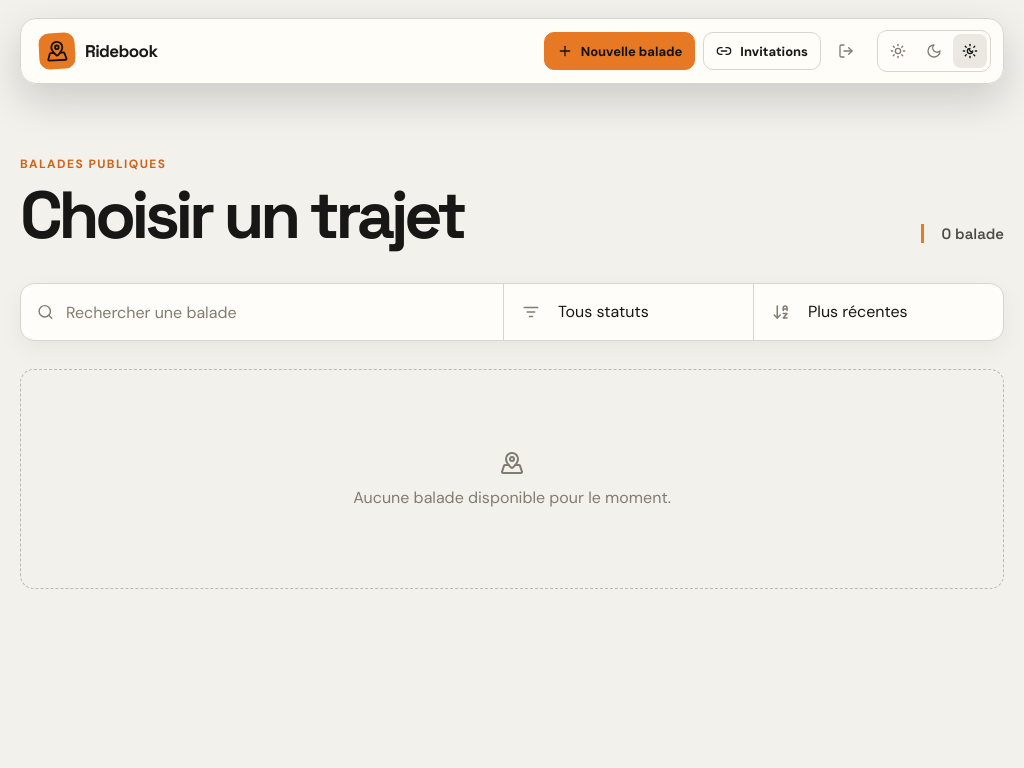
it: App › should let admins send and copy invitation links
The width and height of the screenshot is (1024, 768).
Click the button "Invitations" at (762, 51), box x1=703 y1=32 x2=821 y2=70
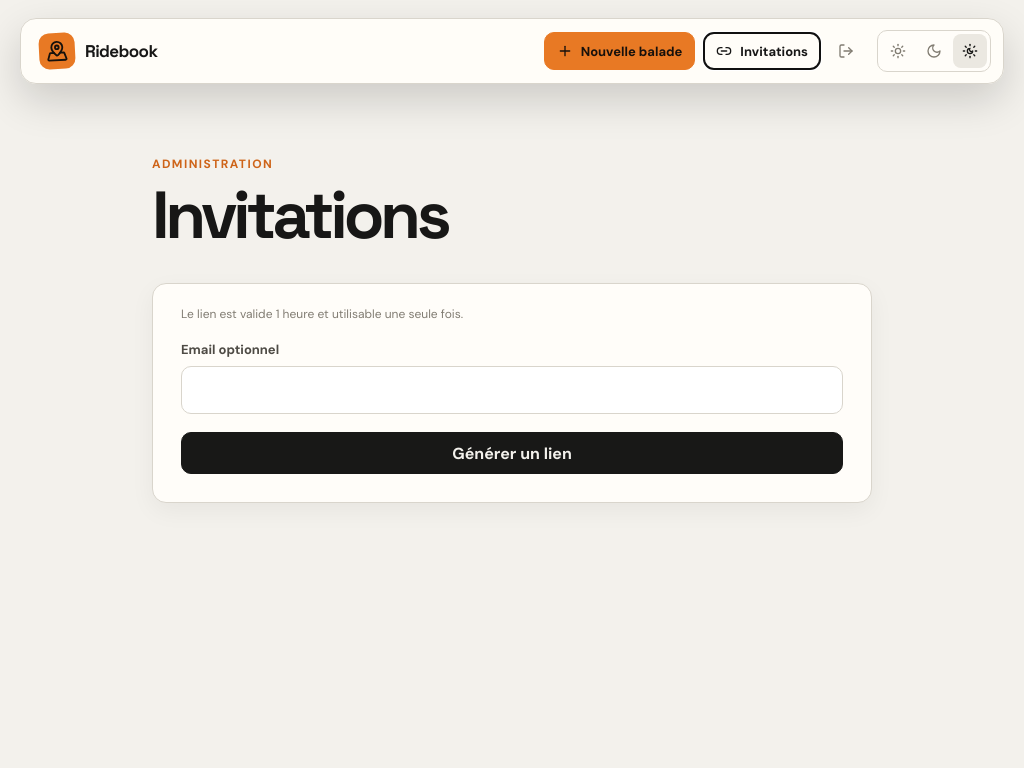
Type "user@example.com" into the field labelled "Email optionnel" at (512, 390), box x1=181 y1=366 x2=843 y2=414
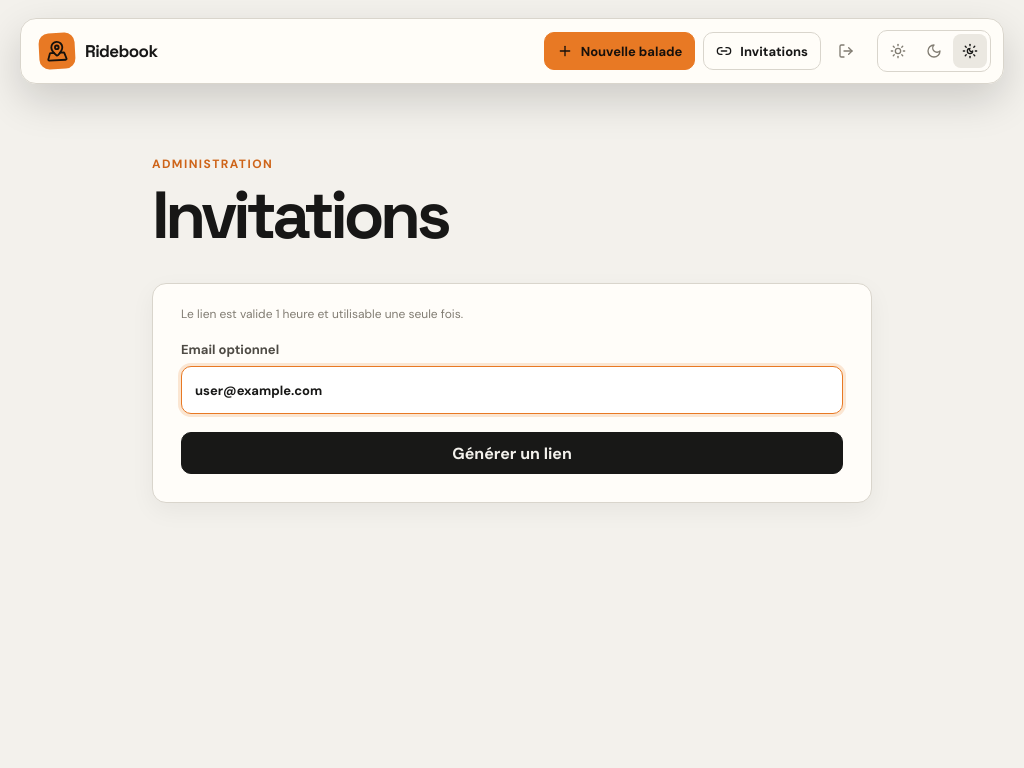
Click the button "Générer un lien" at (512, 453), box x1=181 y1=432 x2=843 y2=474
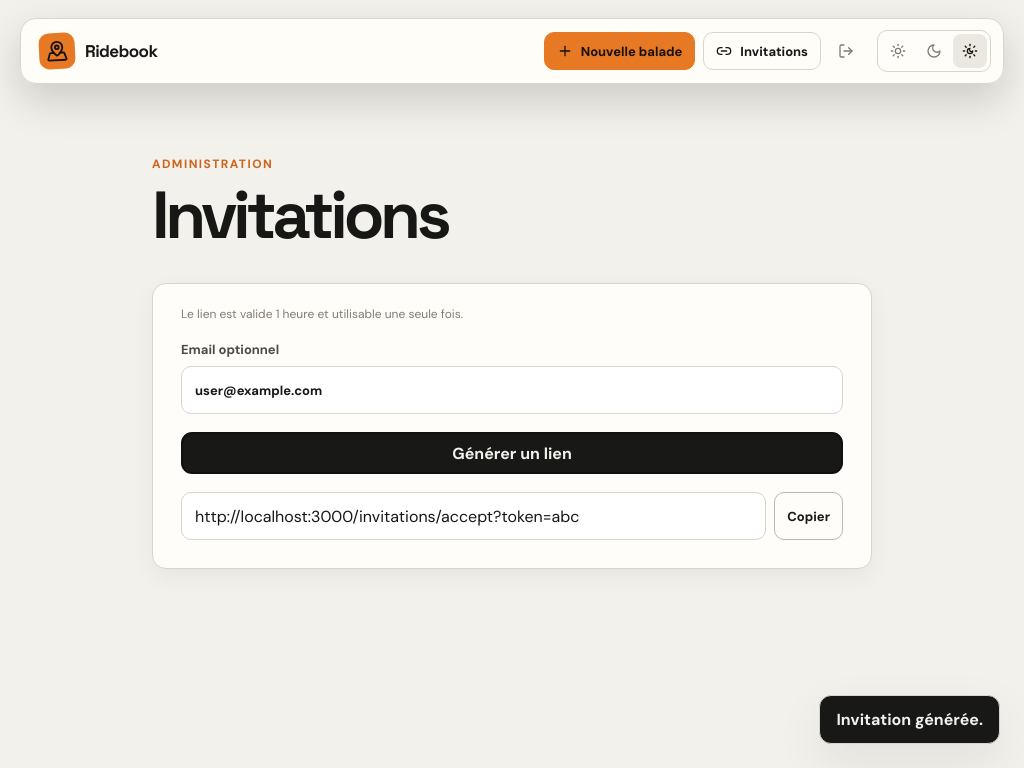
Click the button "Copier" at (809, 516), box x1=774 y1=492 x2=843 y2=540
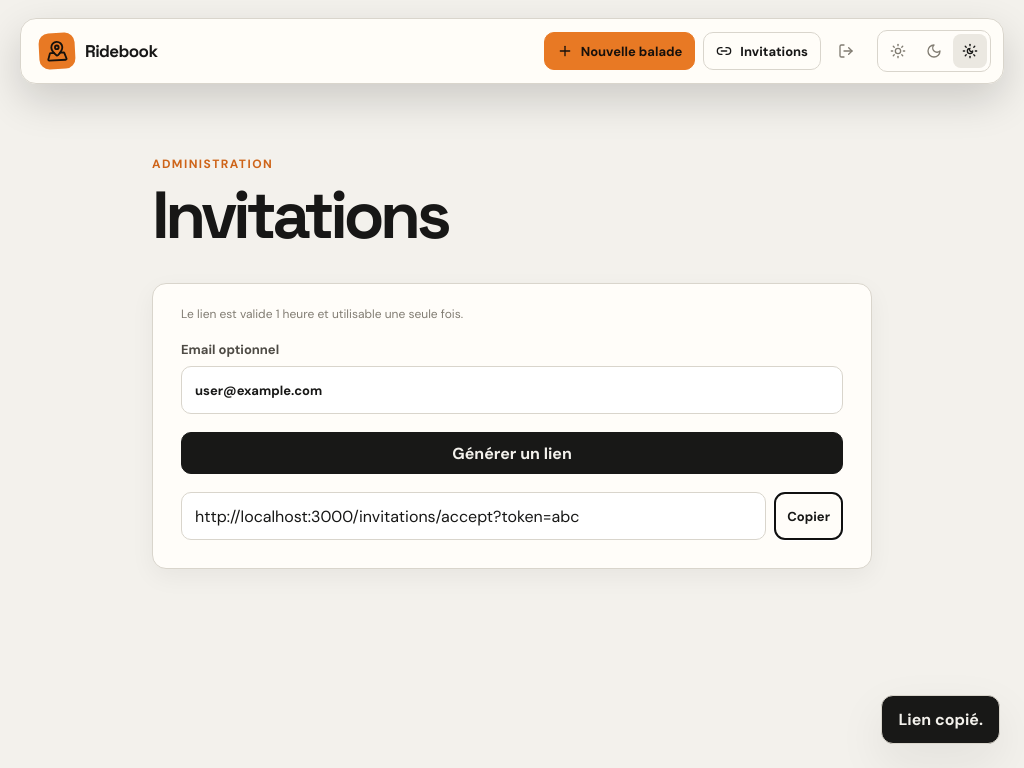
Now the field named "Lien d'invitation généré" holds "http://localhost:3000/invitations/accept?token=abc", box x1=181 y1=492 x2=766 y2=540
Now the text "Lien copié." is shown, box x1=881 y1=695 x2=1000 y2=744
